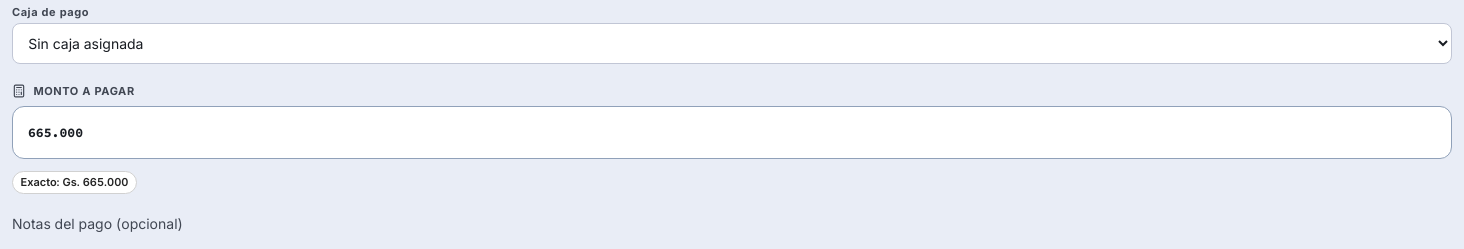
Test case: PurchaseCollectionStep — formateo del monto a pagar › formatea los miles mientras se escribe y reporta el canónico
Replace the text in the field labelled "Monto a pagar" with "6000". click: (732, 132)
box: [12, 106, 1452, 158]
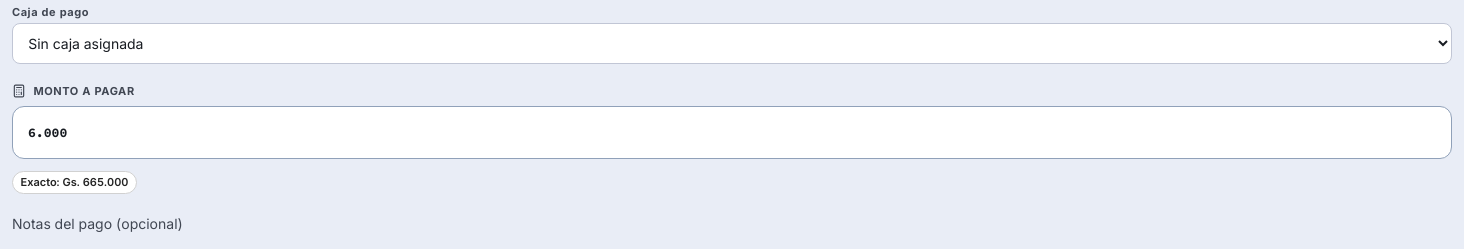
Now the field labelled "Monto a pagar" holds "6.000", box [12, 106, 1452, 158]
